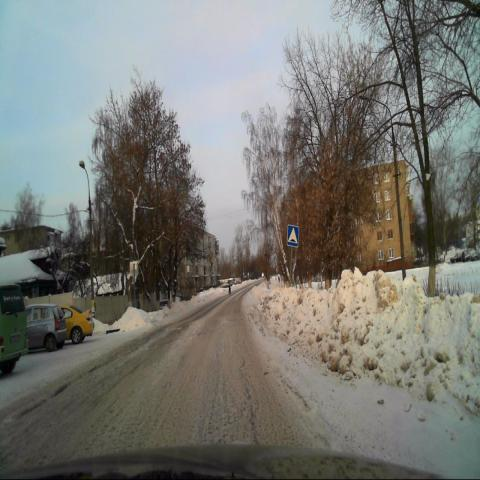5_20: (287, 224, 299, 247)
